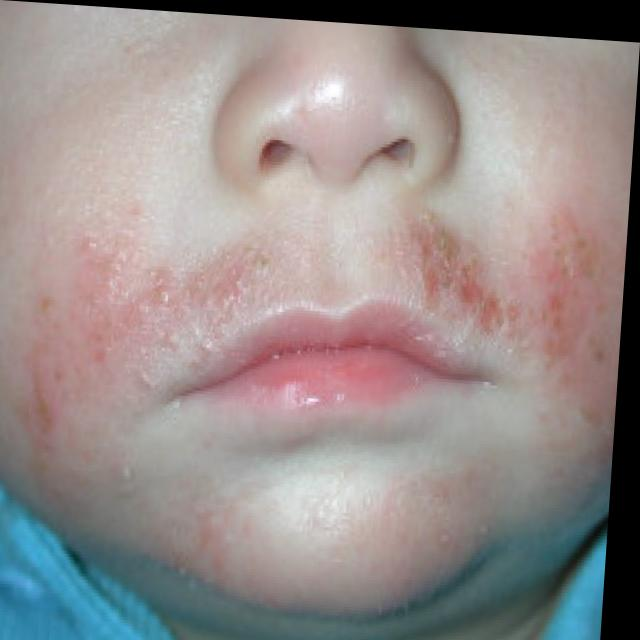Eczema Mild: (0, 130, 633, 484)
